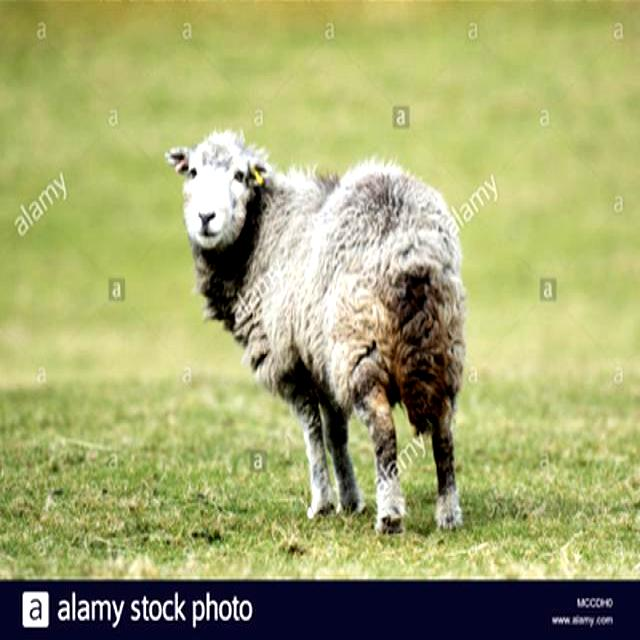sheep: (166, 130, 463, 530)
